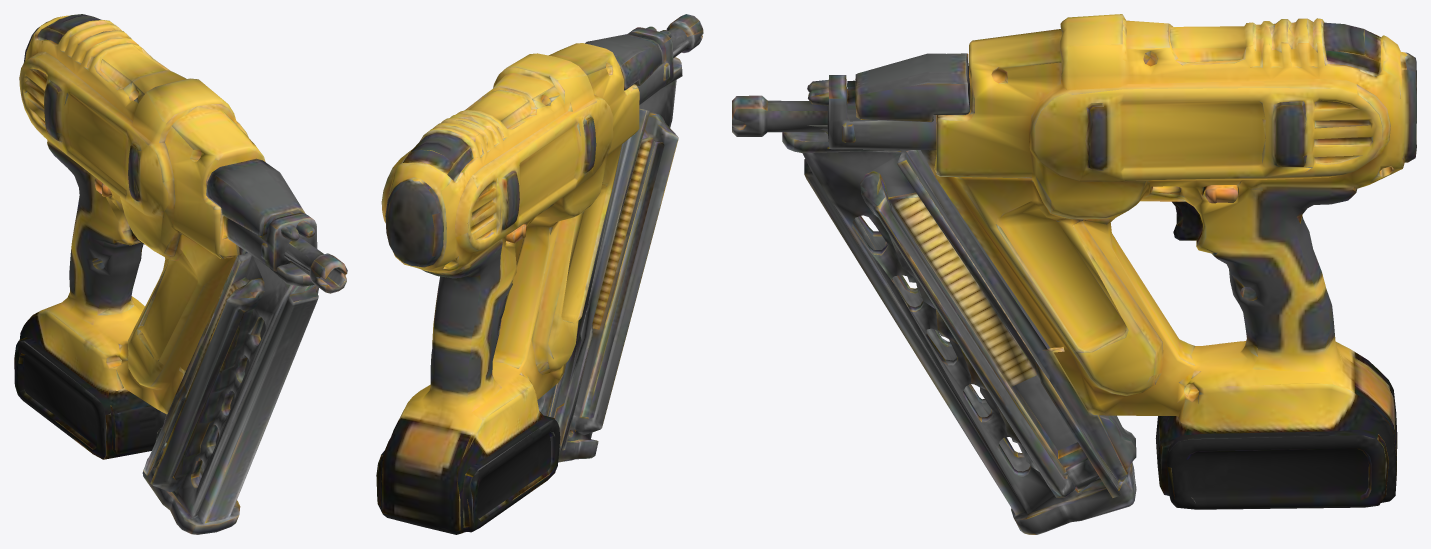
Rendered from nail_gun.glb.
3 views of the same model, side by side, from view 1: azimuth 30°, elevation 25°; view 2: azimuth 150°, elevation 25°; view 3: azimuth 270°, elevation 25° (orthographic). The views are drawn at different scales.
Visible parts, largest first — view 1: w_nail_gun; view 2: w_nail_gun; view 3: w_nail_gun.
Boxes of the visible parts, x1,y1,x2,y2 form: w_nail_gun: (14,14,347,534); w_nail_gun: (376,14,703,534); w_nail_gun: (732,14,1416,534).
Size of the model in its own units: 0.0886 by 0.3381 by 0.42.
1 material, 1 textured.
